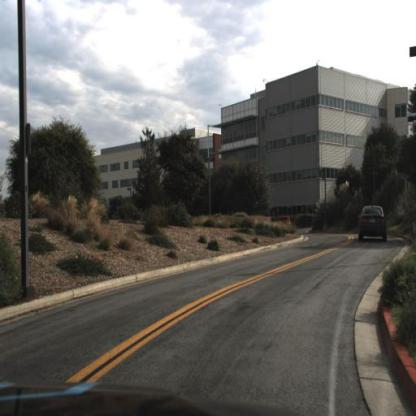car: (357, 203, 389, 243), (274, 216, 293, 232)
